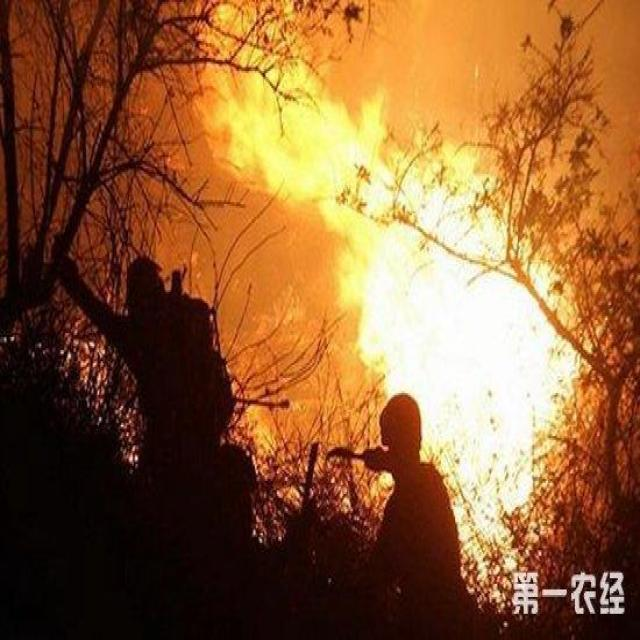fire: (182, 3, 612, 593)
